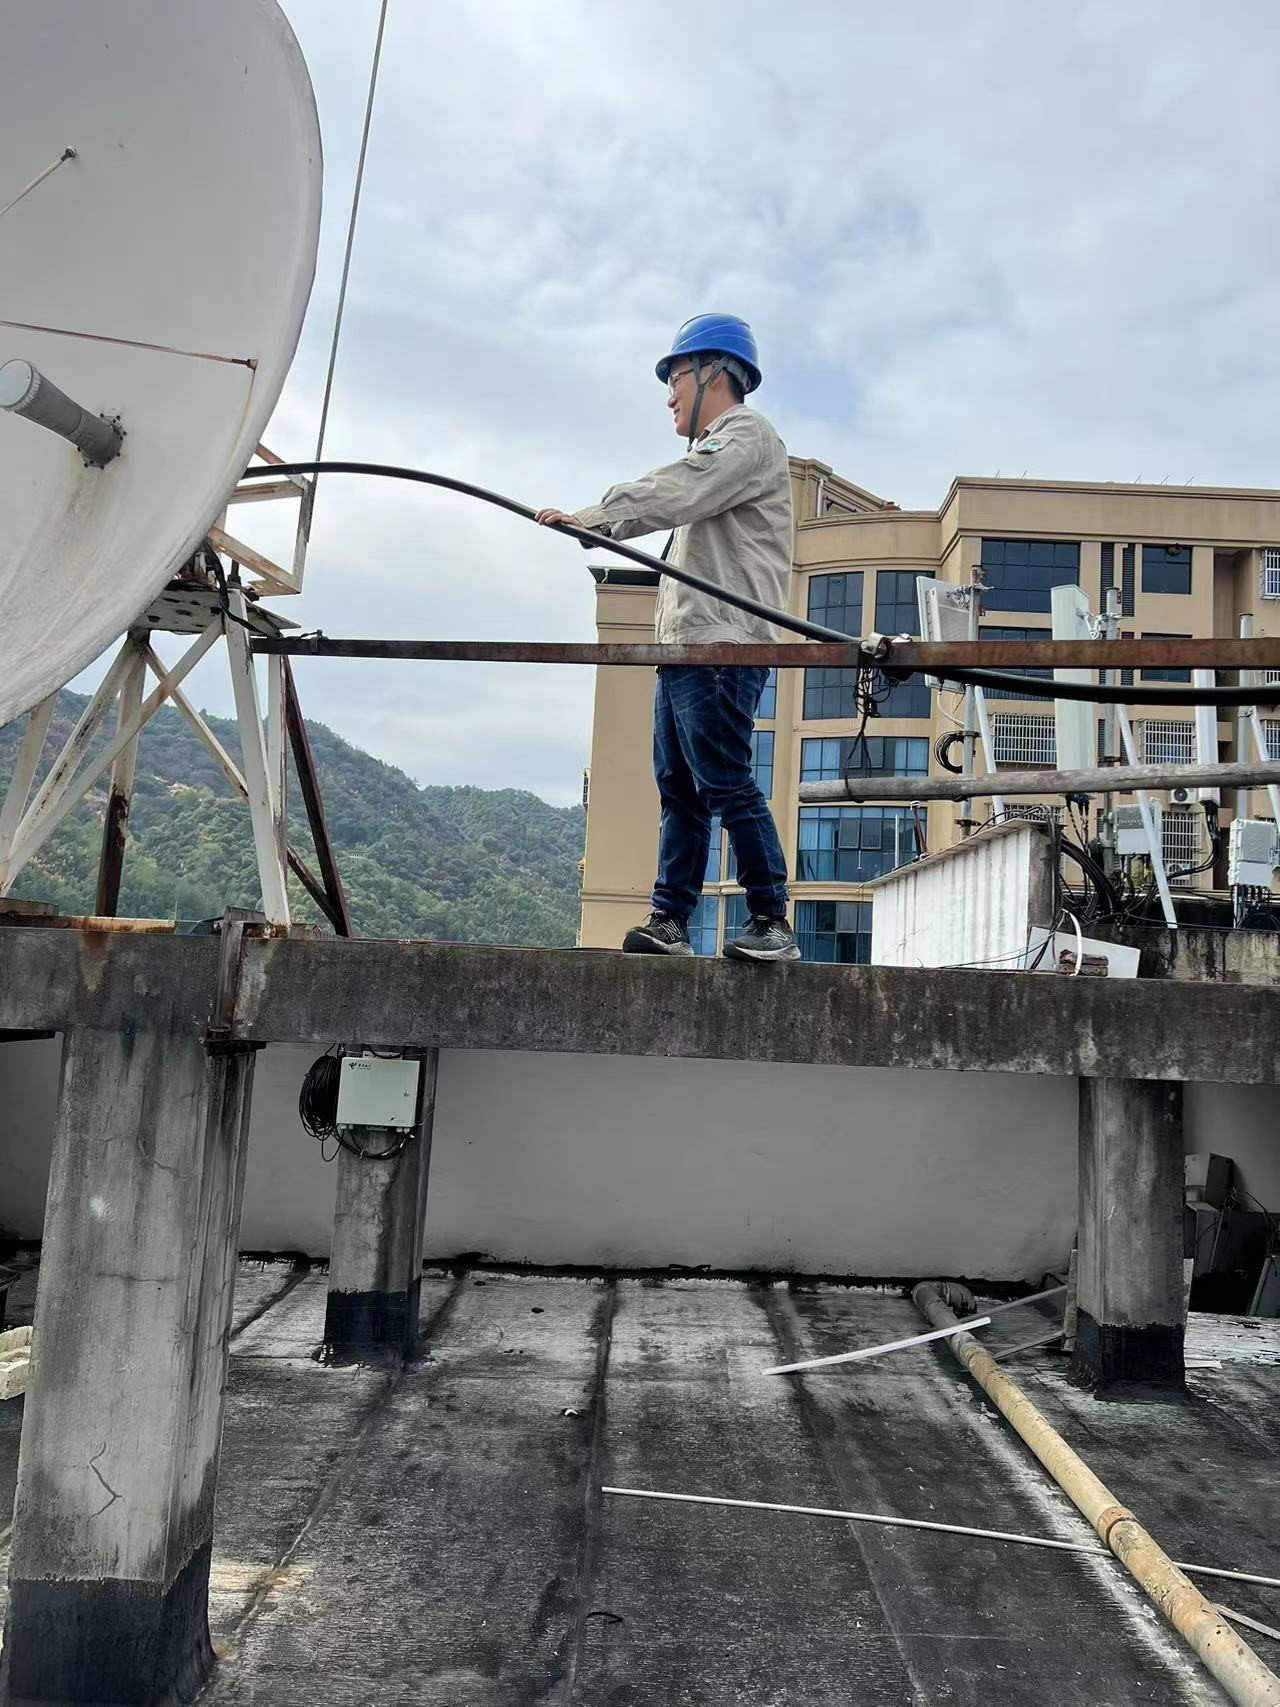hat: (653, 305, 766, 435)
